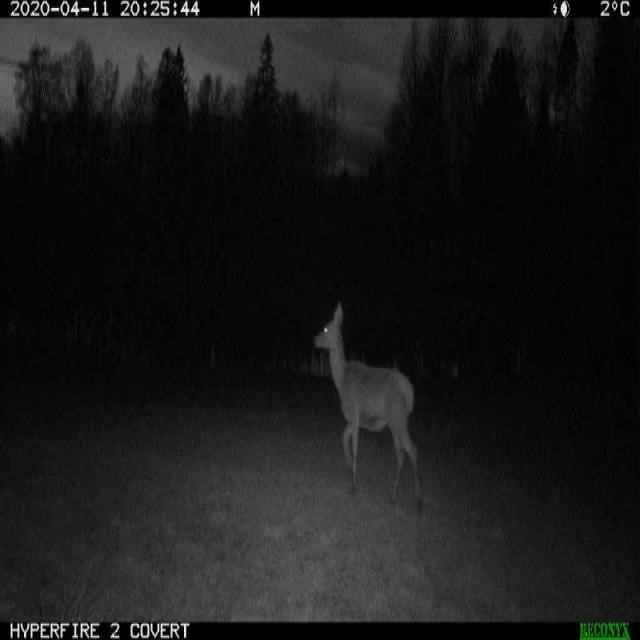deer: (303, 291, 429, 521)
